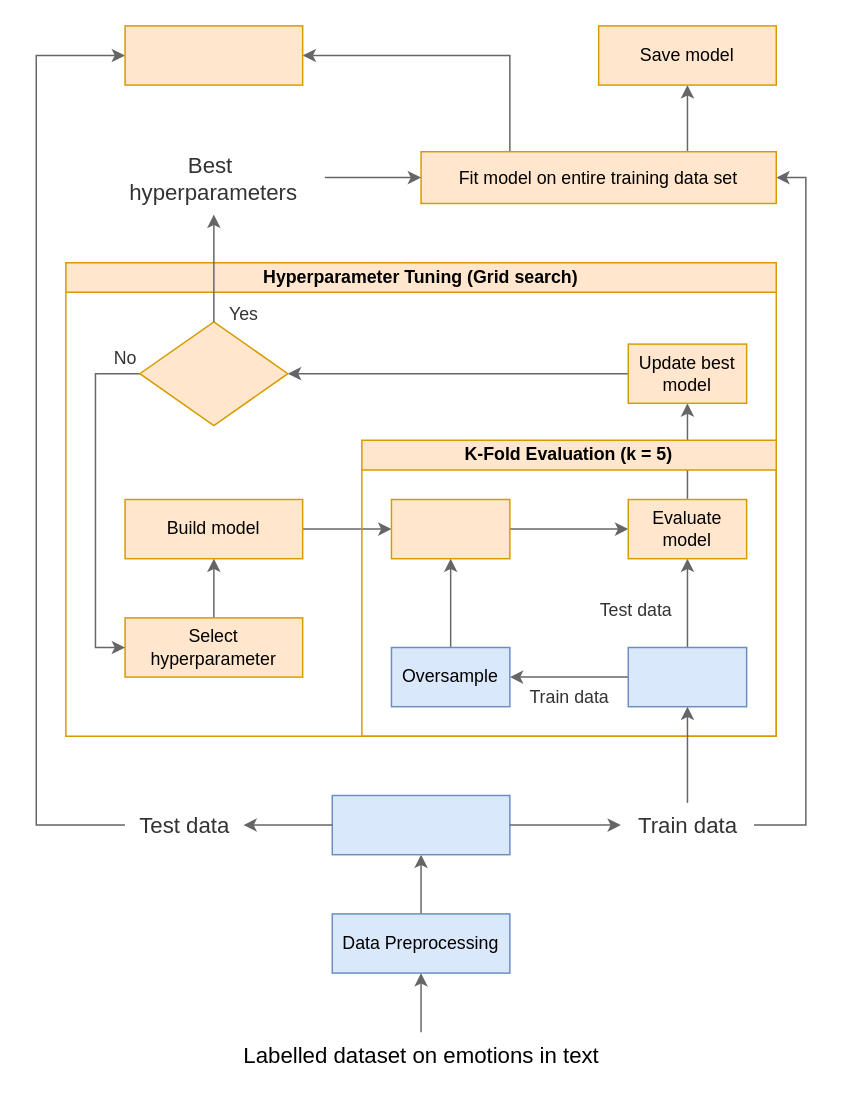
The diagram is 844 pixels wide and 1103 high, and some of its shapes have lost their labels. Each missing label, with the centre of its shape:
"Evaluate model on test data" goes at (x=213, y=54).
"Finished?" goes at (x=213, y=373).
"Fit model" goes at (x=450, y=528).
"Split train-test (with K-Fold)" goes at (x=687, y=676).
"Split train-test data" goes at (x=420, y=824).
